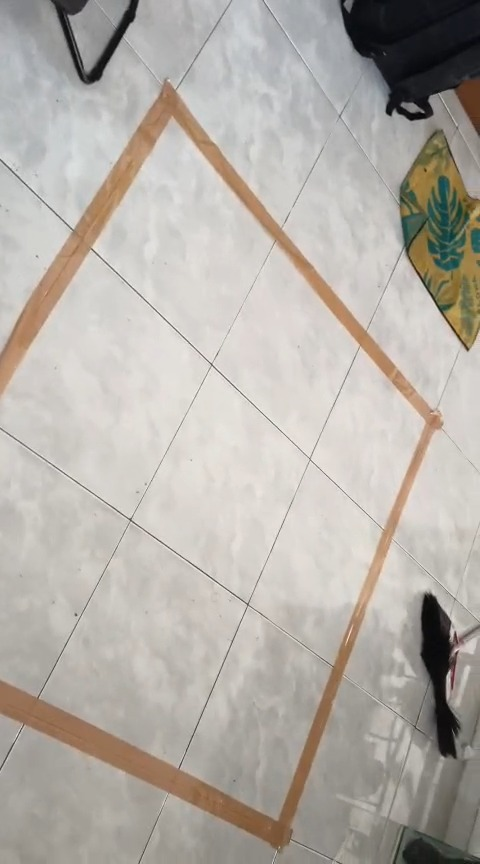floor marking: (0, 82, 441, 847)
